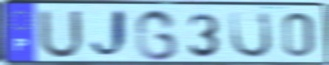0: (280, 10, 317, 60)
3: (186, 11, 221, 59)
G: (134, 8, 180, 62)
J: (88, 8, 131, 62)
U: (37, 8, 86, 62), (229, 11, 274, 60)
